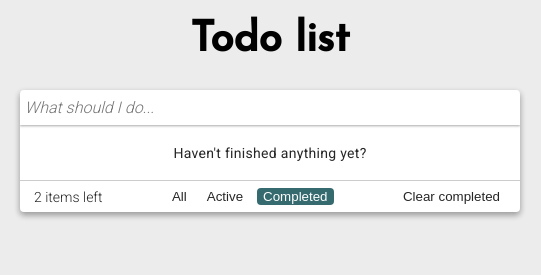
Test case: Adding todos › do one element
What coordinates should you click on to do the following:
click the button "all"
I would click on:
 (179, 197)
Its box is [166,188,193,205].
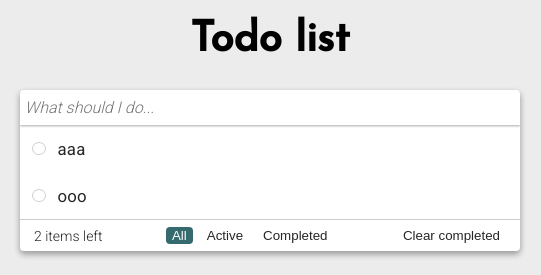
What coordinates should you click on to do the following:
click the text "aaa"
I would click on:
 (72, 149)
Its box is [57,139,86,159].
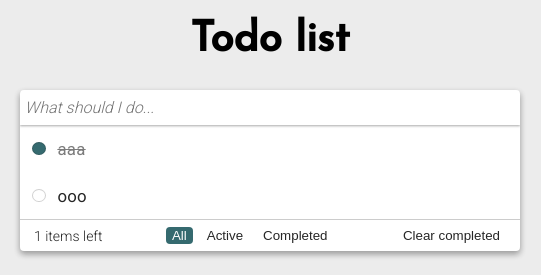
Now the text "aaa" is shown, box [57,139,86,159]
Now the text "ooo" is shown, box [57,186,87,206]
Now the text "1 items left" is shown, box [34,228,102,244]
What coordinates should you click on to do the following:
click the button "active"
I would click on:
 (225, 236)
Its box is [201,227,249,244].
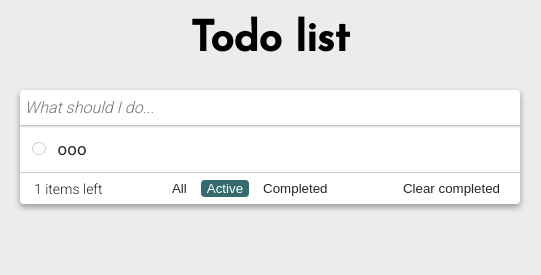
Now the text "ooo" is shown, box [57,139,87,159]
Now the text "aaa" is gone
What coordinates should you click on to do the following:
click the button "completed"
I would click on:
 (295, 189)
Its box is [257,180,334,197].
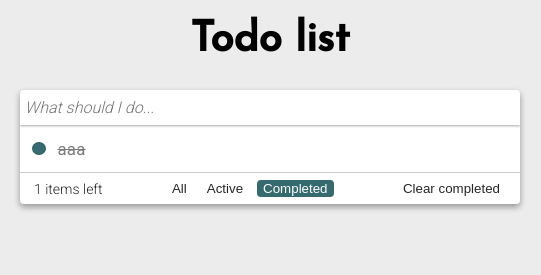
Now the text "ooo" is gone
Now the text "aaa" is shown, box [57,139,86,159]
